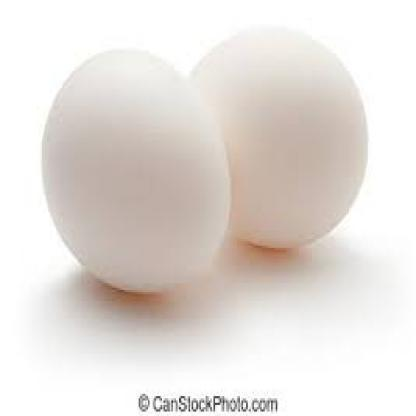egg: (38, 42, 235, 300), (188, 20, 370, 254)
